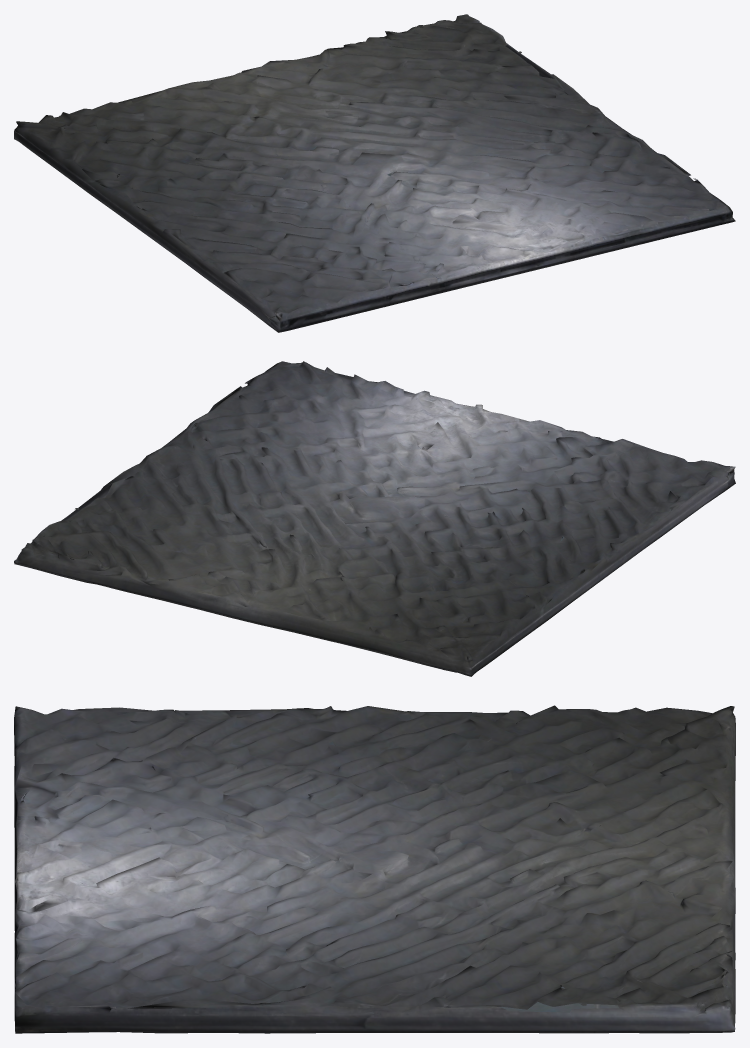
File: Meshy_AI_Industrial_mental_flo_0221052323_texture.glb
The picture shows the model from 3 angles, top to bottom: view 1: azimuth 30°, elevation 25°; view 2: azimuth 150°, elevation 25°; view 3: azimuth 270°, elevation 25°; orthographic projection. The views are drawn at different scales.
Size of the model in its own units: 2 by 0.0843 by 2.
1 material, 1 textured.
